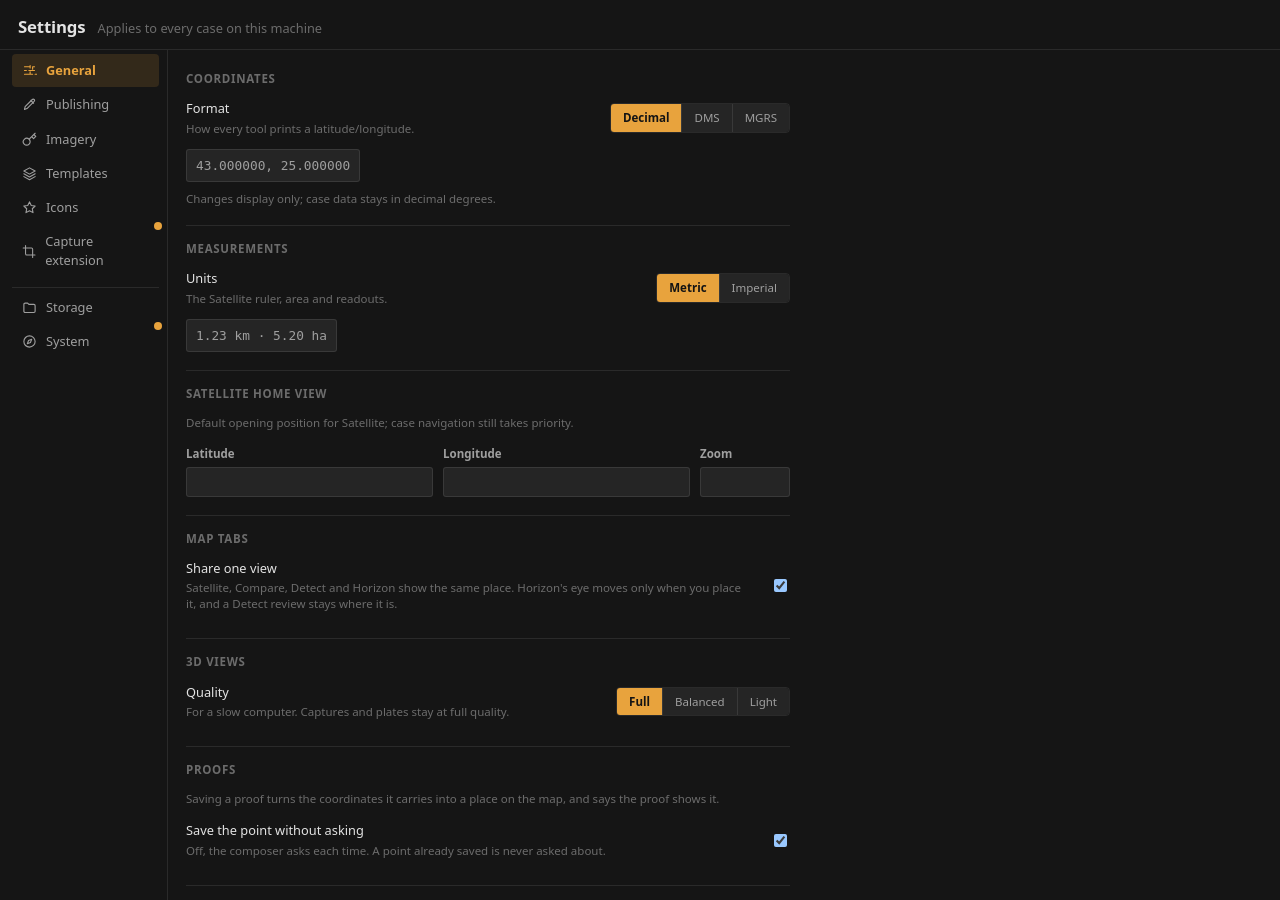
Test: each section › Storage manages every export folder and the backup
This screenshot has width=1280, height=900.
Click the button with class "rail-tab" showing "Storage": click(86, 305) top-left (12, 286), bottom-right (159, 324)
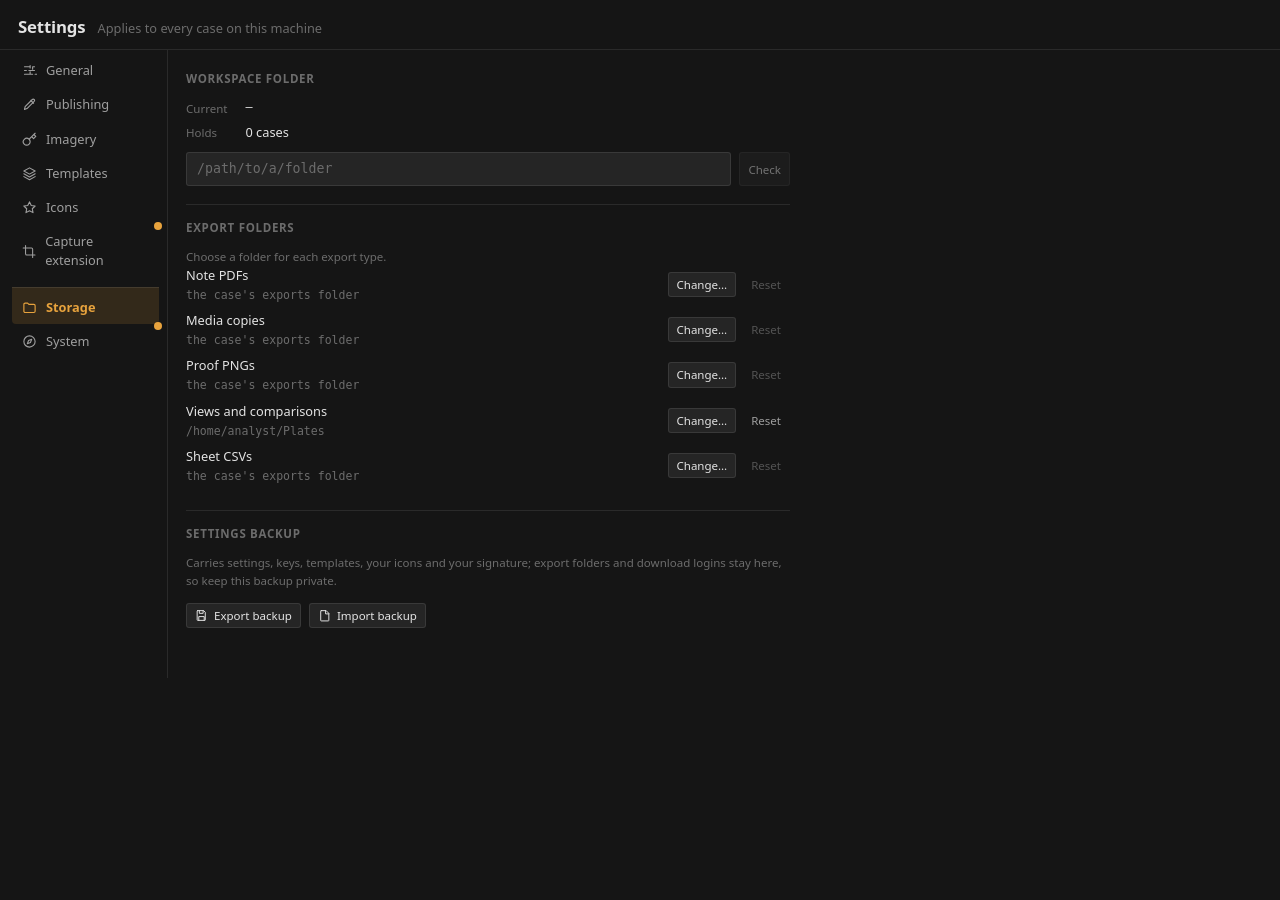
Result: the element that starts with "Workspace folder" shows "Note PDFs" at top-left (186, 266), bottom-right (248, 284)
Result: the element that starts with "Workspace folder" shows "Media copies" at top-left (186, 311), bottom-right (265, 329)
Result: the element that starts with "Workspace folder" shows "Proof PNGs" at top-left (186, 356), bottom-right (255, 374)
